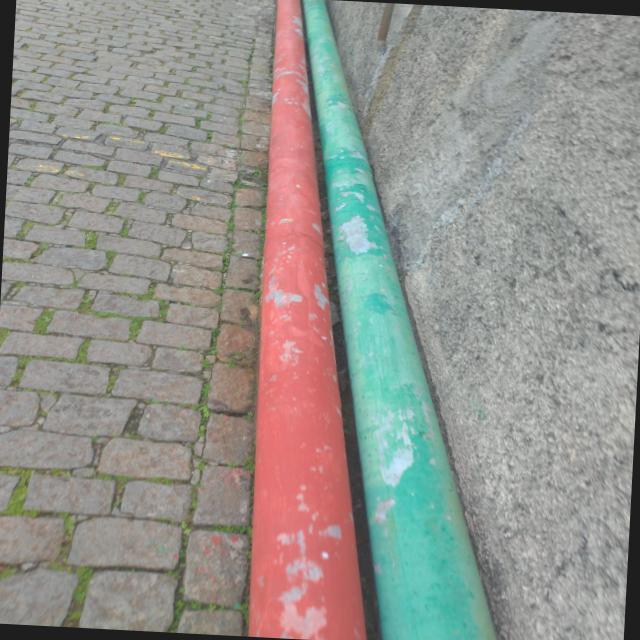gas: (306, 0, 502, 640), (247, 0, 370, 640)
